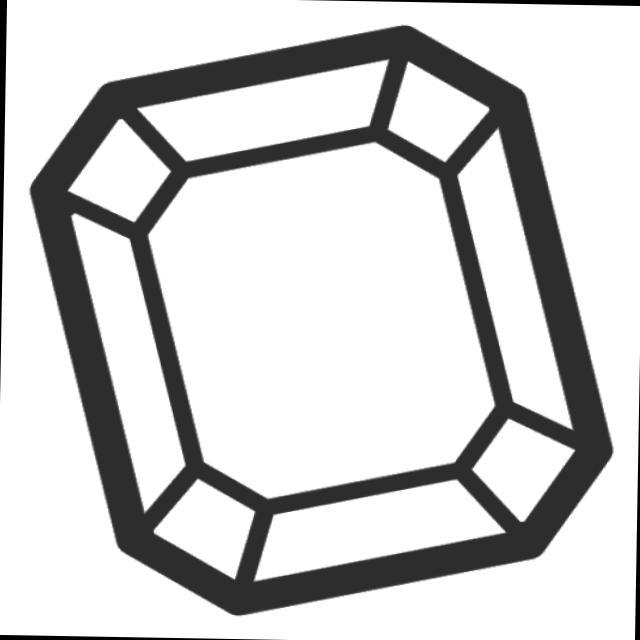emerald: (14, 11, 626, 627)
